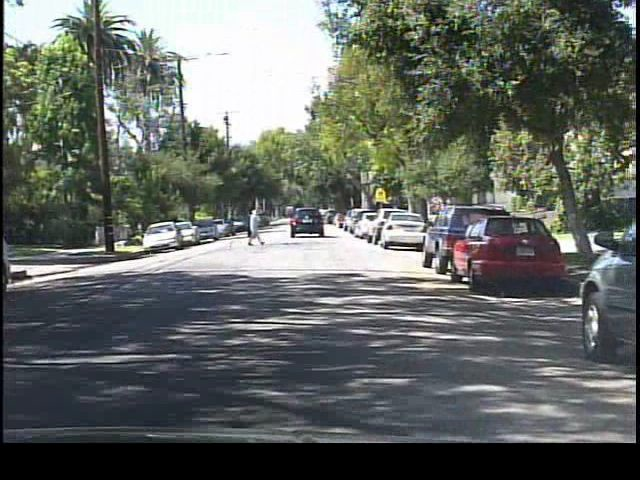person: (244, 208, 269, 248)
